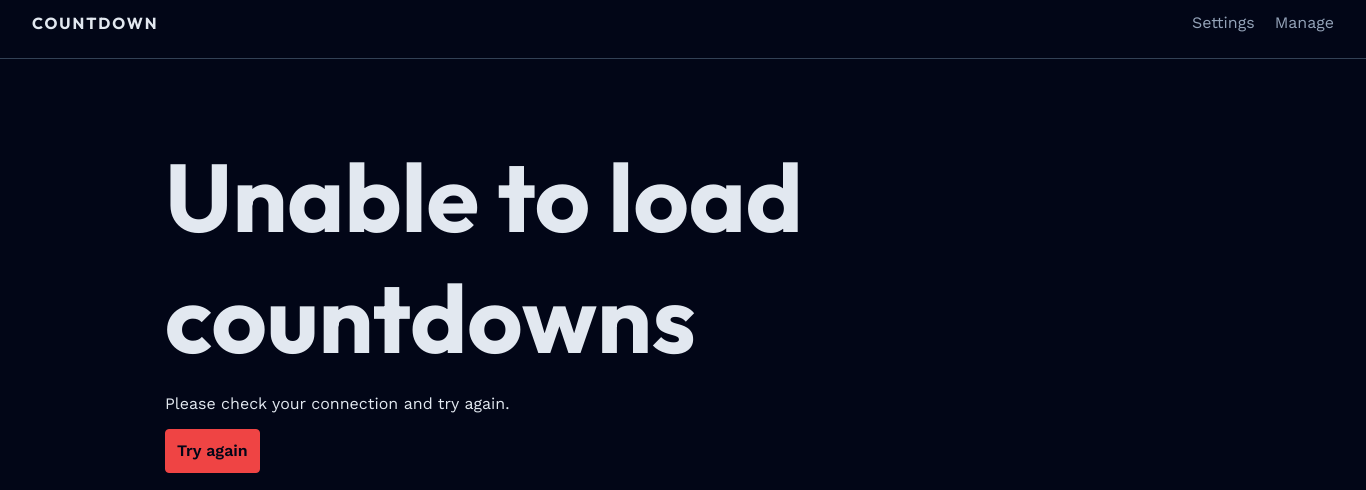
Test: shows a retryable public failure
What coordinates should you click on to do the following:
click the button "Try again"
I would click on:
 (212, 451)
Its box is x1=165 y1=429 x2=260 y2=473.
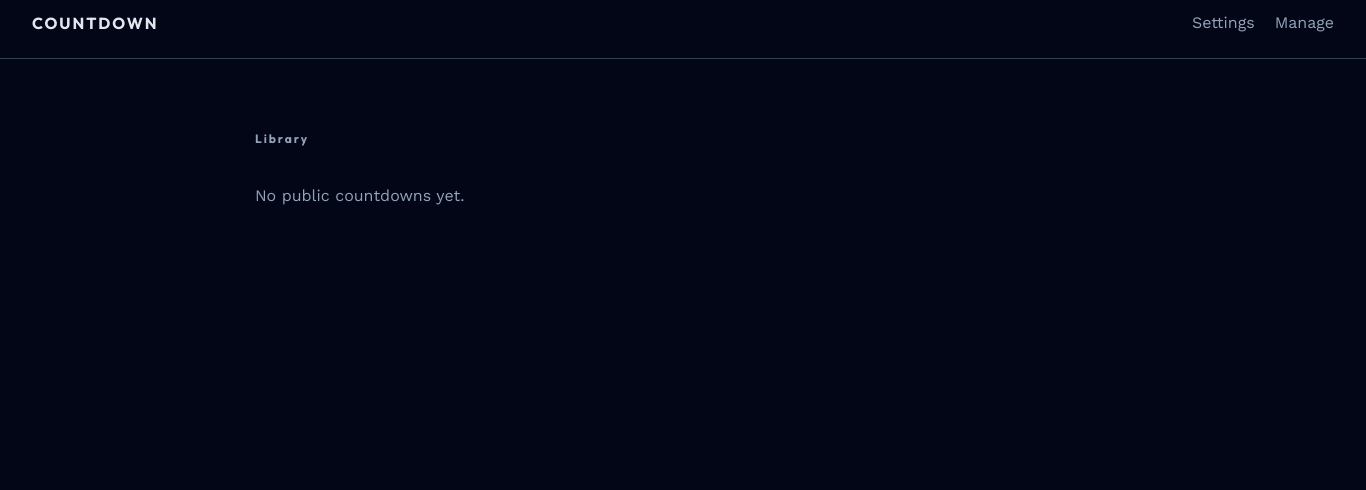
Result: the text "No public countdowns yet." is shown at x1=255 y1=186 x2=464 y2=205
